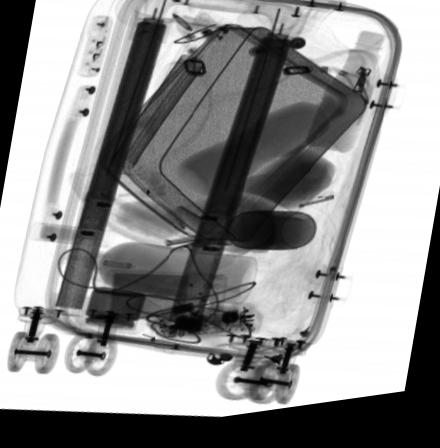Powerbank: (104, 273, 225, 328)
